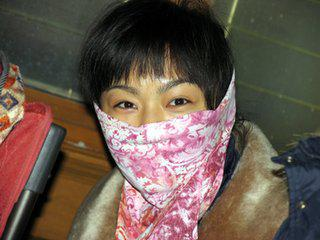OK: (106, 80, 216, 190)
